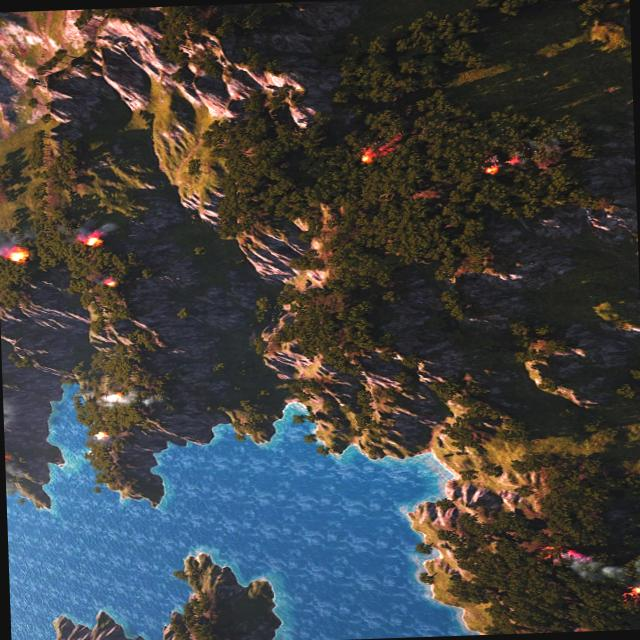fire: (360, 140, 398, 162), (480, 156, 502, 173), (6, 246, 27, 262), (560, 546, 582, 558), (624, 582, 640, 598), (85, 235, 103, 248), (507, 155, 522, 167), (104, 278, 118, 286), (96, 430, 110, 437)
smoke: (564, 550, 630, 582), (94, 386, 159, 410), (68, 213, 121, 242)
